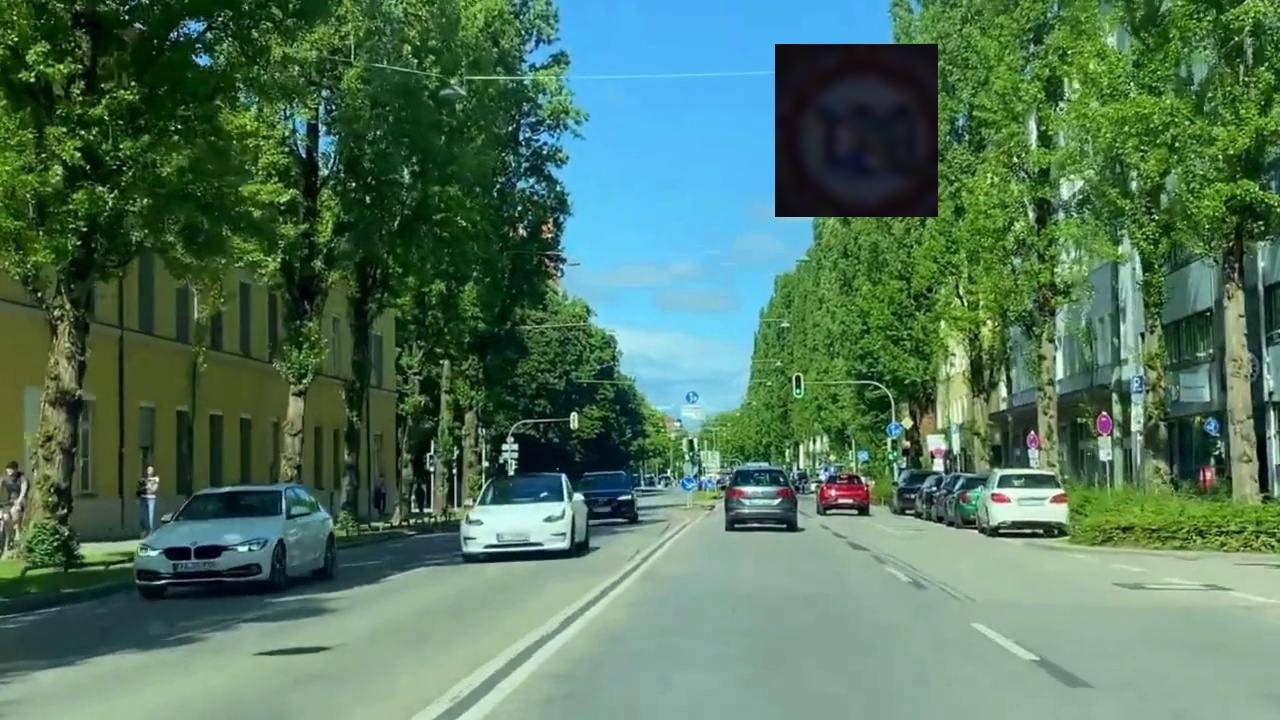Speed 120: (775, 44, 938, 217)
